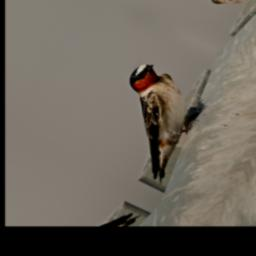Swallow: (81, 57, 219, 185)
